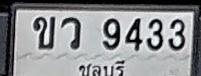3: (146, 18, 163, 50), (168, 18, 185, 50)
4: (125, 18, 142, 50)
9: (103, 18, 120, 50)
A02: (33, 16, 55, 49)
A37: (60, 16, 80, 49)
CBI: (74, 57, 127, 76)
